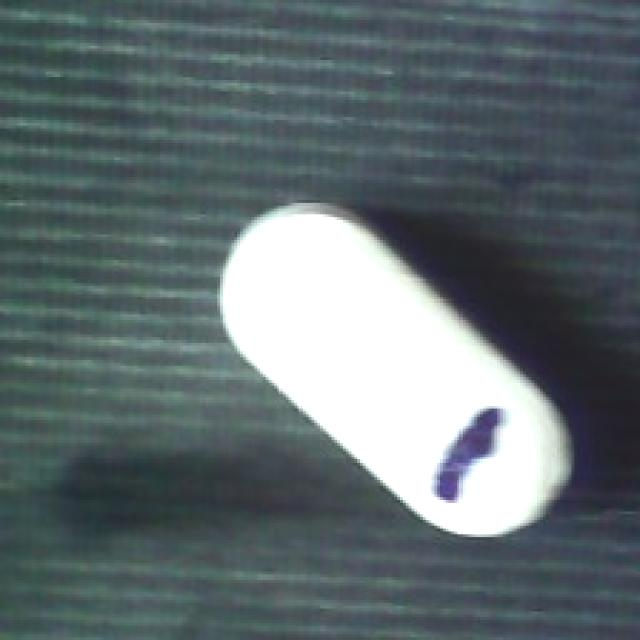defected: (215, 195, 574, 542)
